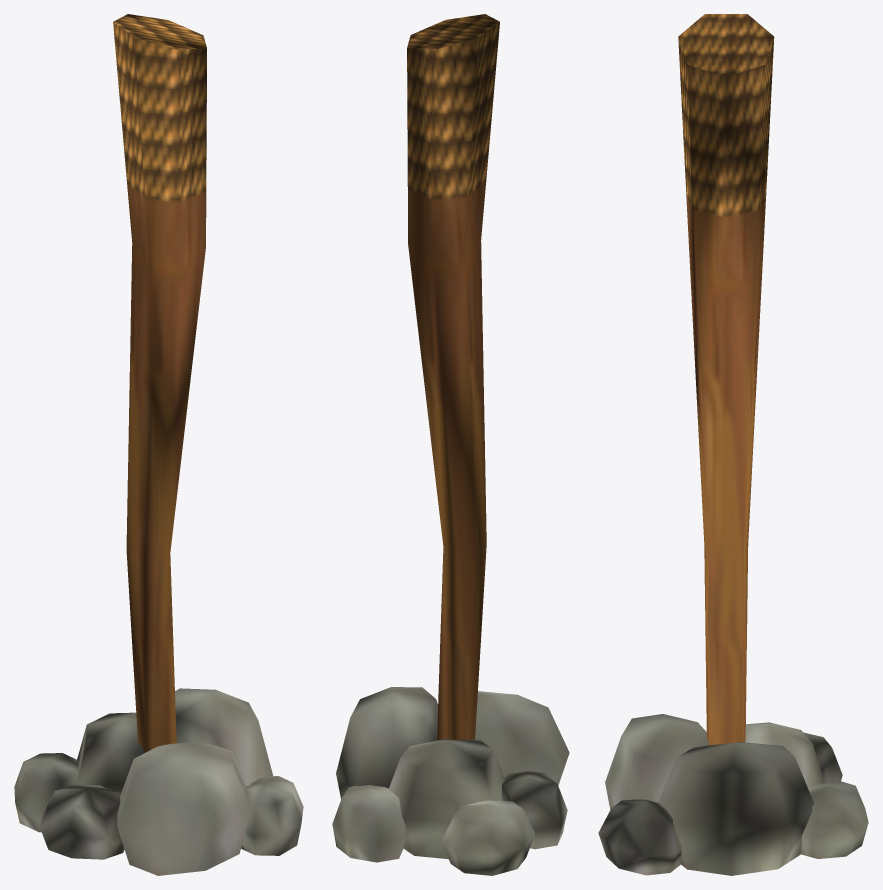
File: Torch01.obj
3 renders of one model, left to right at view 1: azimuth 30°, elevation 25°; view 2: azimuth 150°, elevation 25°; view 3: azimuth 270°, elevation 25°, orthographic.
Parts seen in each view (by area): view 1: Torch01; view 2: Torch01; view 3: Torch01.
Boxes of the visible parts, bbox=[...] form: Torch01: bbox=[14, 14, 303, 875]; Torch01: bbox=[332, 14, 569, 875]; Torch01: bbox=[598, 14, 868, 875].
Size of the model in its own units: 3.6 by 12.72 by 3.89.
2 materials, 2 textured.
